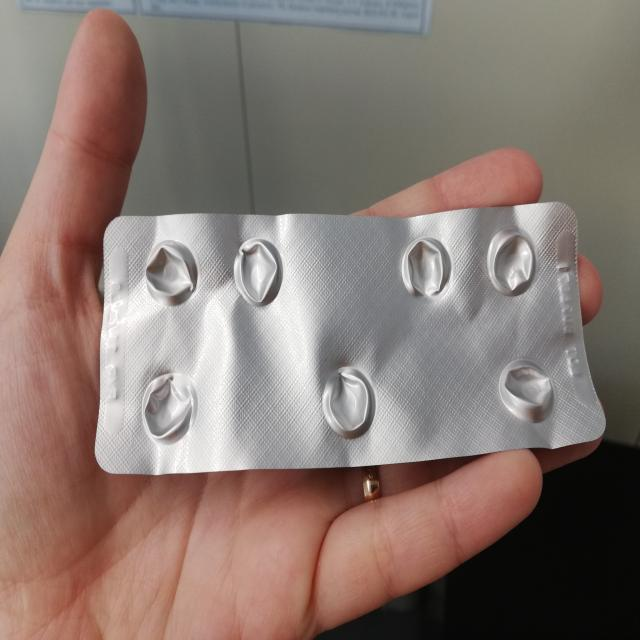Empty: (135, 366, 200, 449), (315, 361, 377, 441), (138, 233, 202, 308), (495, 356, 558, 428), (228, 232, 286, 310), (397, 229, 455, 305), (482, 223, 538, 300)
